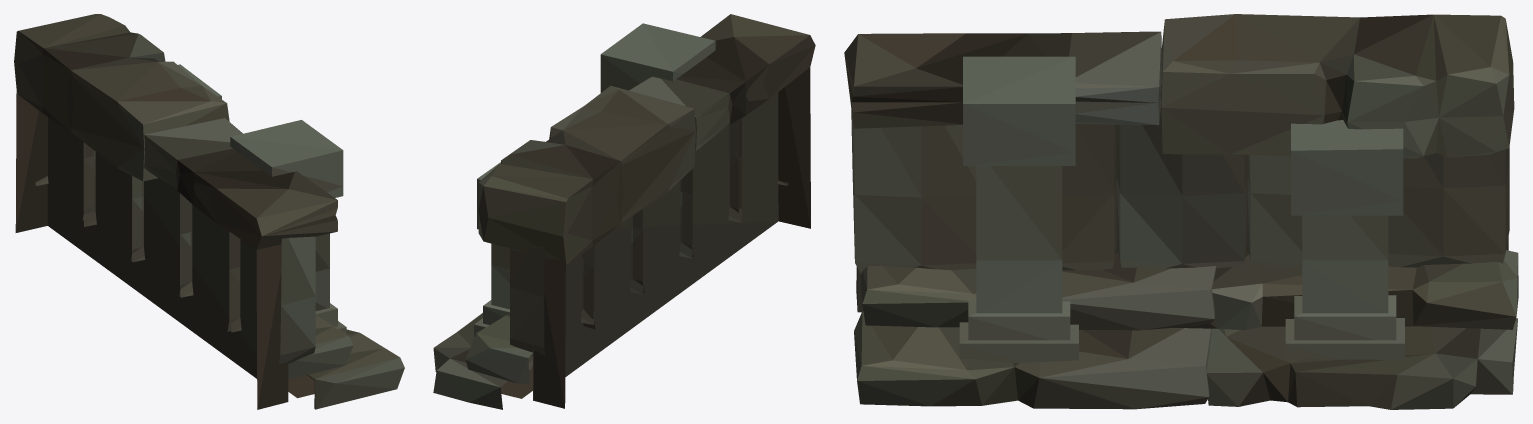
File: low_wall_5m_A.fbx
3 views of the same model, side by side, from view 1: azimuth 30°, elevation 25°; view 2: azimuth 150°, elevation 25°; view 3: azimuth 270°, elevation 25° (orthographic). The views are drawn at different scales.
Parts seen in each view (by area): view 1: low_wall_5m_A; view 2: low_wall_5m_A; view 3: low_wall_5m_A.
Part boxes in pixels (x1=…): low_wall_5m_A: x1=14, y1=14, x2=404, y2=409; low_wall_5m_A: x1=433, y1=14, x2=815, y2=409; low_wall_5m_A: x1=844, y1=14, x2=1518, y2=409.
Size of the model in its own units: 1.79 by 2.53 by 5.17.
